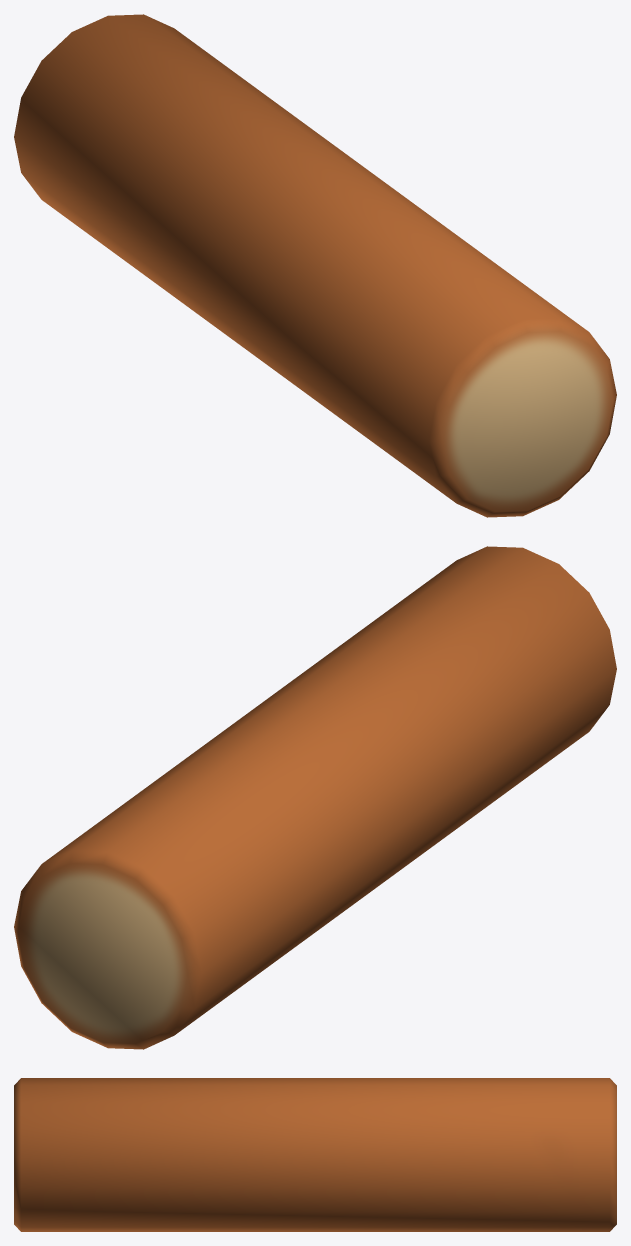
The model's file is wood.fbx.
3 renders of one model, top to bottom at view 1: azimuth 30°, elevation 25°; view 2: azimuth 150°, elevation 25°; view 3: azimuth 270°, elevation 25°, orthographic. The views are drawn at different scales.
Visible parts, largest first — view 1: wood; view 2: wood; view 3: wood.
Part boxes in pixels (x1,y1,x2,y2): wood: (14,14,616,517); wood: (14,546,616,1049); wood: (14,1078,616,1231).
Size of the model in its own units: 25.32 by 25.32 by 99.22.
Materials: 1 (1 with a texture image).
